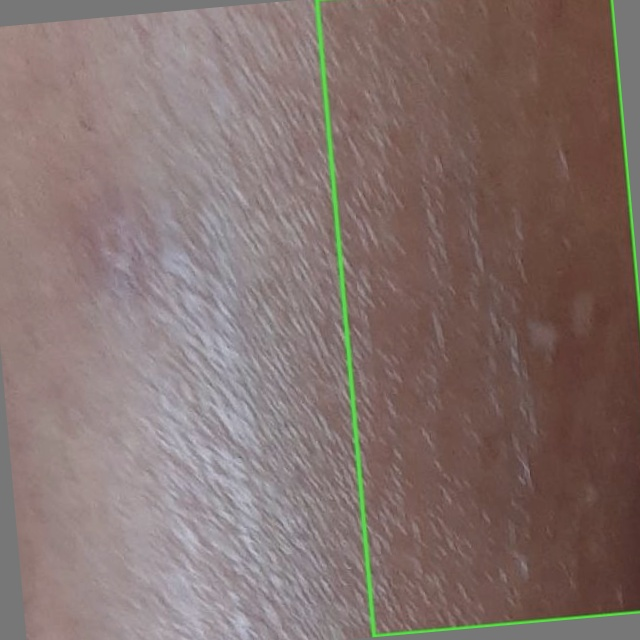Seborrheic Dermatitis: (316, 0, 639, 636)
